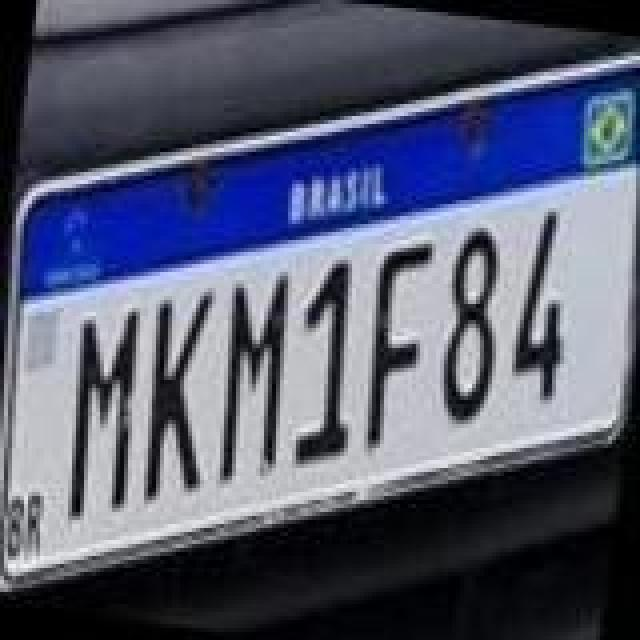1: (282, 252, 370, 476)
4: (504, 202, 580, 406)
8: (428, 224, 512, 432)
F: (354, 230, 442, 458)
K: (134, 282, 230, 510)
M: (54, 302, 150, 530), (206, 262, 302, 490)
